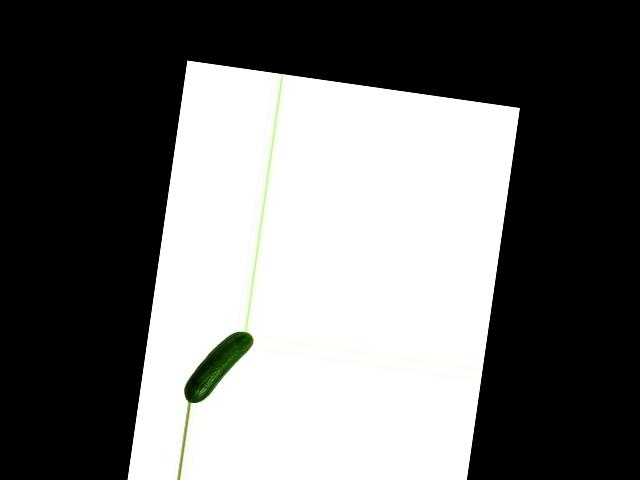cucumber: (182, 324, 254, 410)
